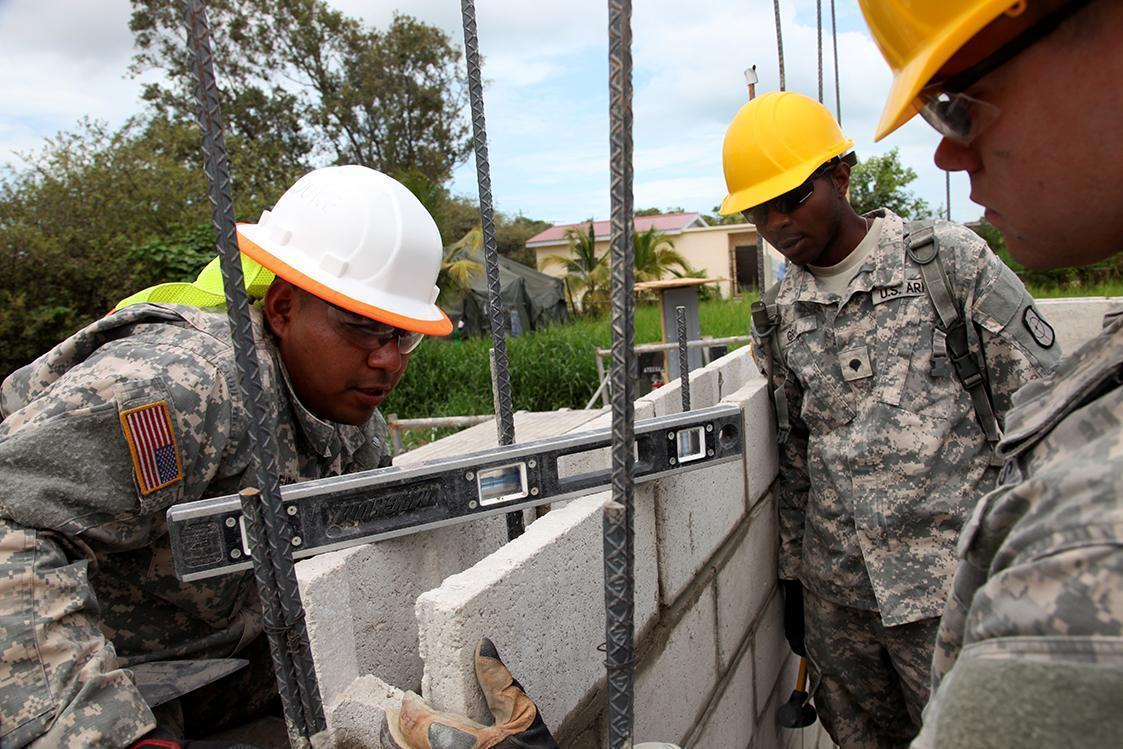Boots: (242, 149, 460, 345), (699, 85, 866, 215)
